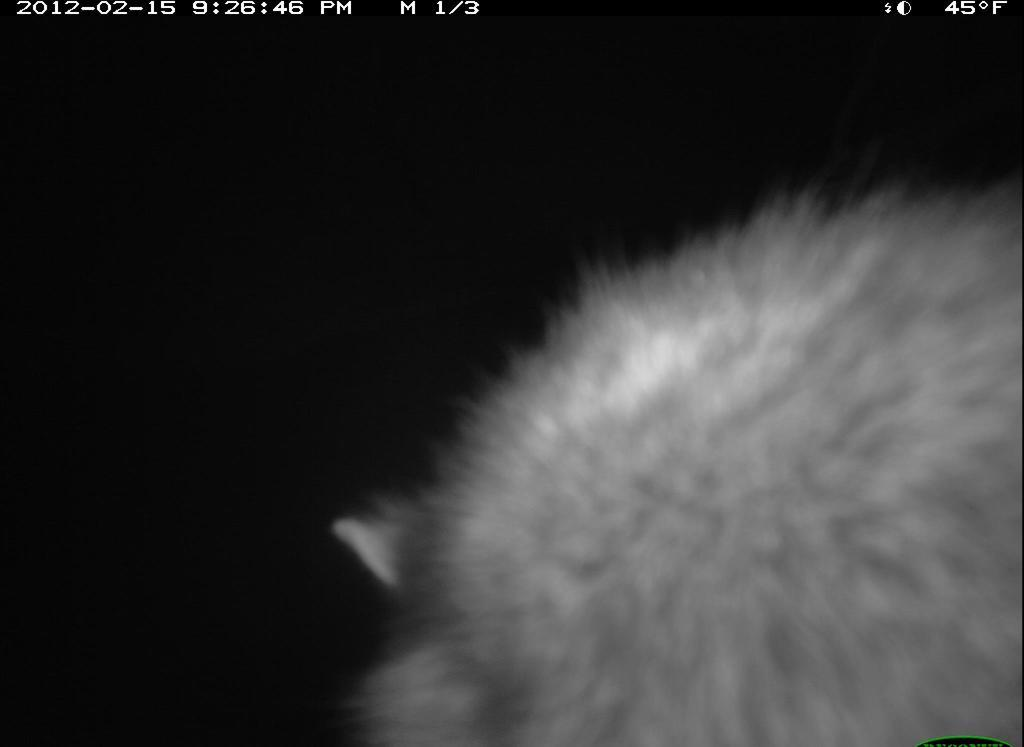raccoon: (321, 159, 1019, 743)
